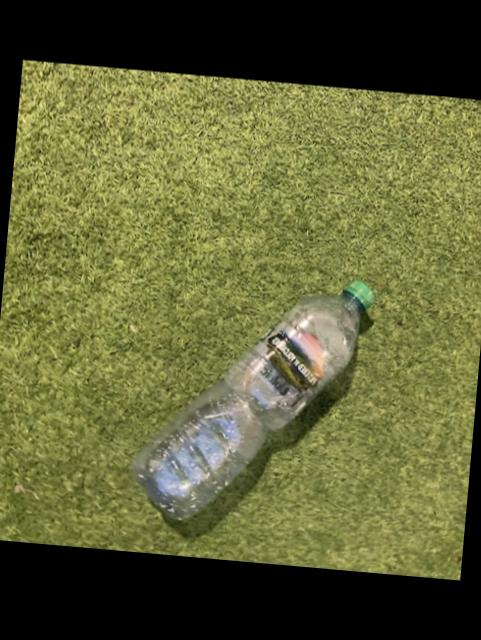plastic: (132, 282, 374, 520)
